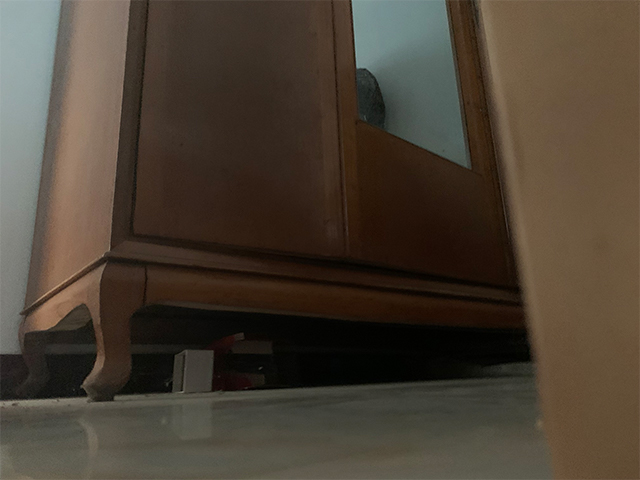cabinet: (11, 1, 526, 404)
